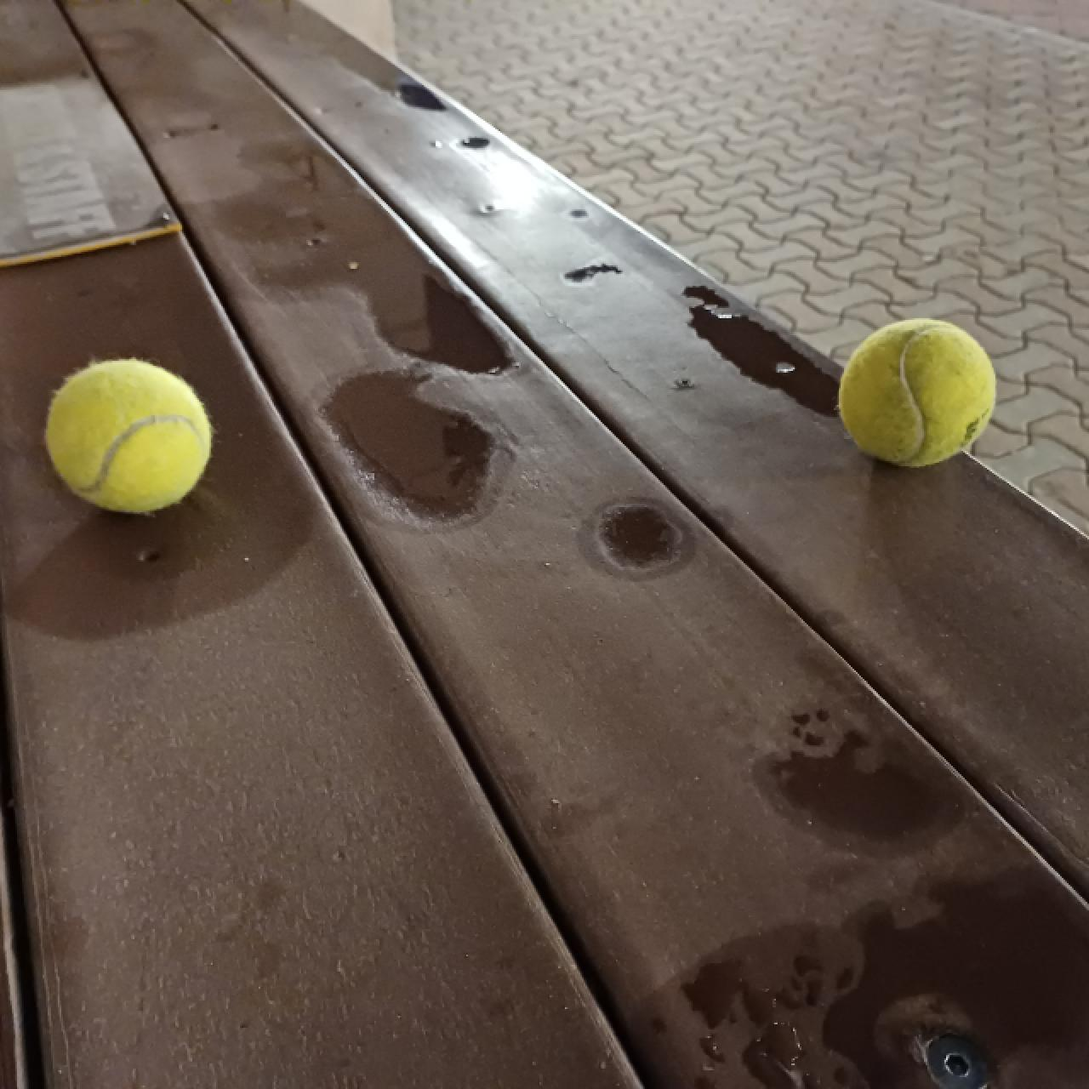tennis-ball: (42, 356, 210, 514), (838, 315, 996, 466)
